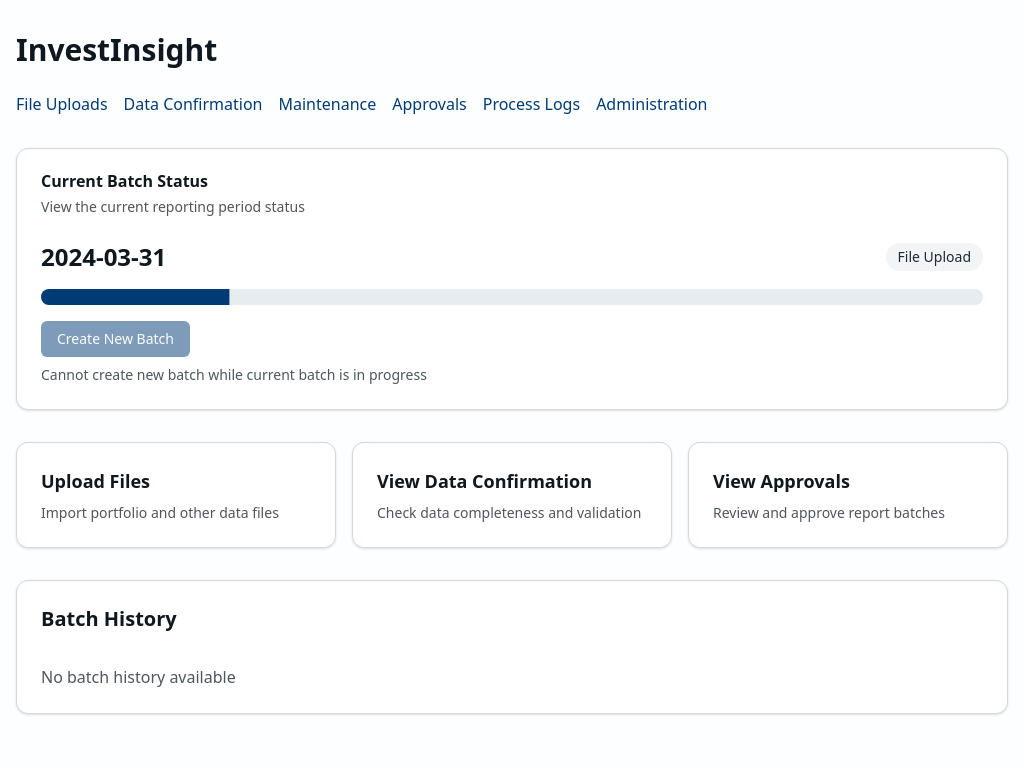
Test case: Epic 1, Story 4: Start Page - Navigation Links › Maintenance Submenu › shows submenu with maintenance links when Maintenance is clicked
Click the link "Maintenance".
click(327, 104)  # box [278,93,376,115]
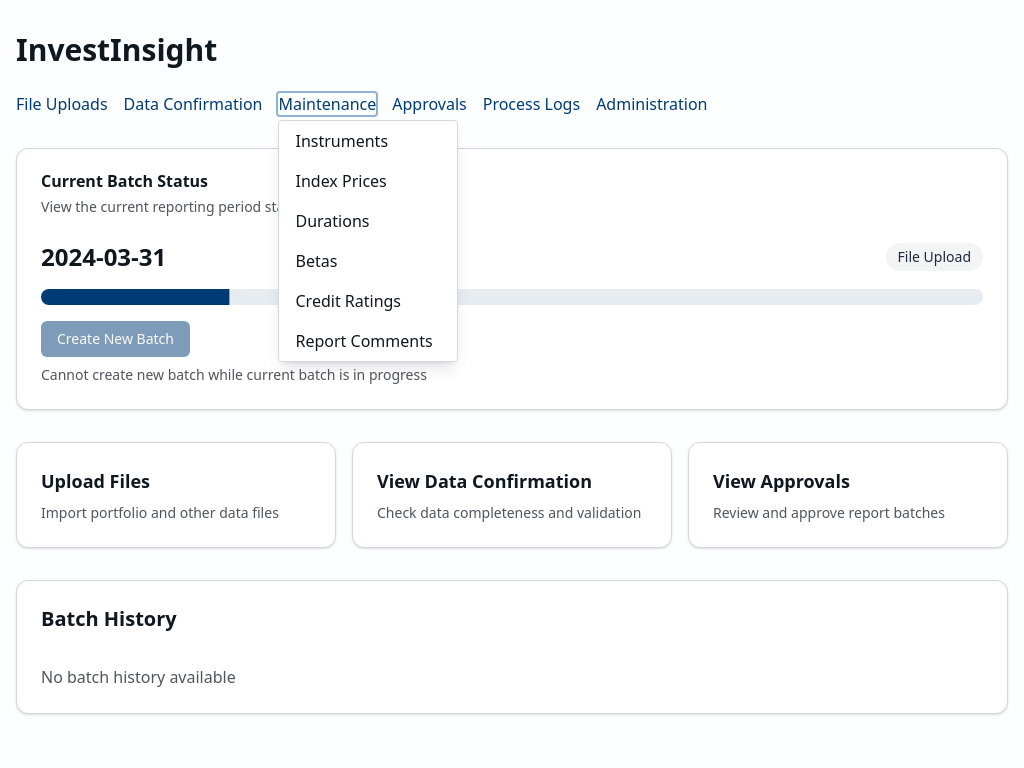
Now the link "Instruments" is shown, box [296,130,388,152]
Now the link "Index Prices" is shown, box [296,170,387,192]
Now the link "Durations" is shown, box [296,210,370,232]
